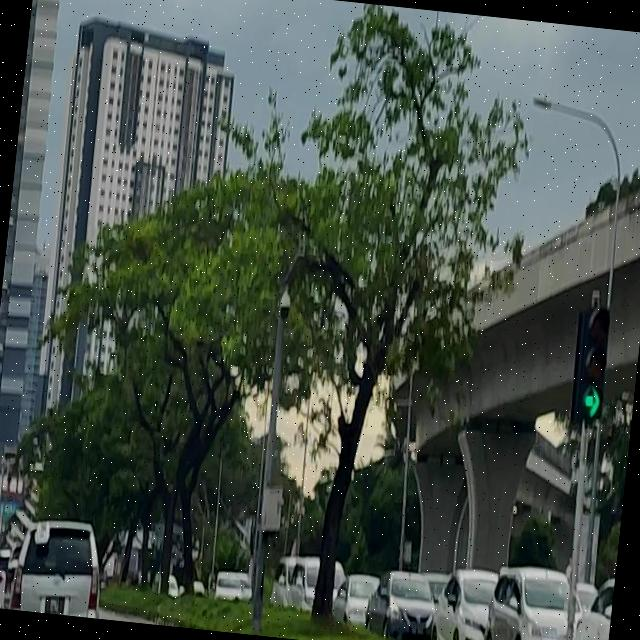green_light: (576, 306, 614, 424)
